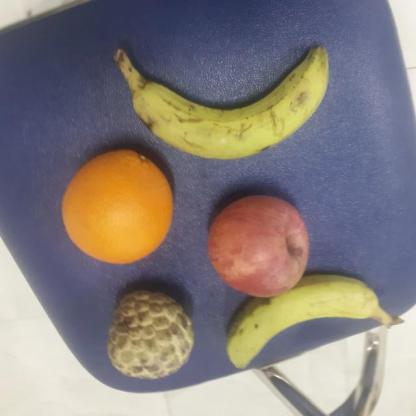annona: (100, 292, 194, 381)
apple: (206, 192, 314, 300)
banana: (129, 43, 335, 164), (219, 270, 380, 375)
orange: (57, 149, 178, 266)
